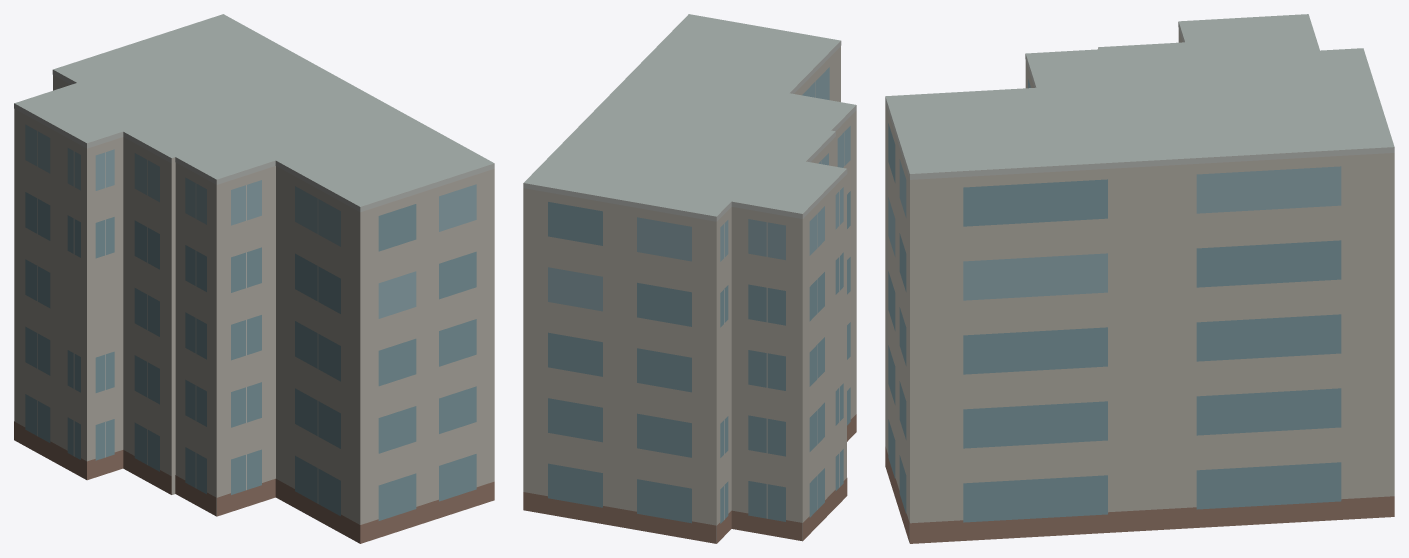
The model's file is survey-upis-33044824.glb.
3 views of the same model, side by side, from view 1: azimuth 30°, elevation 25°; view 2: azimuth 150°, elevation 25°; view 3: azimuth 270°, elevation 25° (orthographic). The views are drawn at different scales.
Parts seen in each view (by area): view 1: survey-upis-33044824.tmp; view 2: survey-upis-33044824.tmp; view 3: survey-upis-33044824.tmp.
Boxes of the visible parts, x1=… form: survey-upis-33044824.tmp: x1=14, y1=14, x2=494, y2=543; survey-upis-33044824.tmp: x1=523, y1=14, x2=856, y2=543; survey-upis-33044824.tmp: x1=885, y1=14, x2=1394, y2=543.
Bounding box in the file's own units: 14.31 × 15.4 × 19.23.
